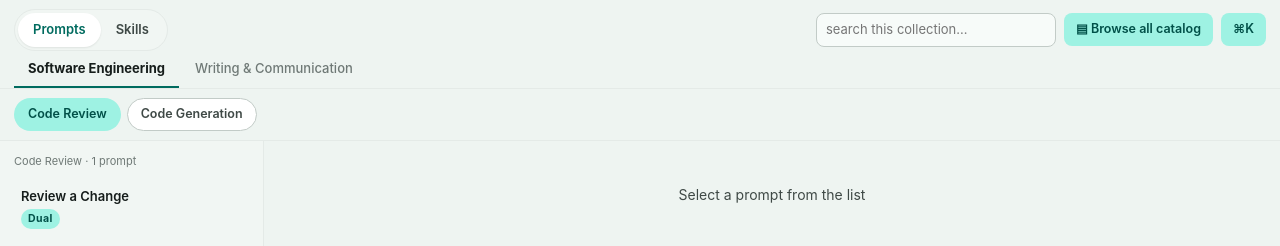
Test: PromptsCollectionView component › Prompts/Skills switch → skills list appears
The width and height of the screenshot is (1280, 246).
expect the tab "Software Engineering" is shown: met, box [14,50,179,88]
Click "Skills" in the SegmentedControl
Click the button "Skills" at [132, 30], box [101,13,164,46]
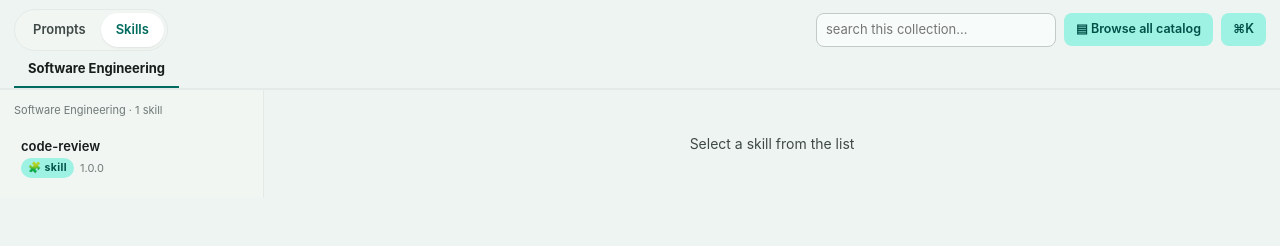
expect the button "Code Review" is gone: met
expect the option "code-review 🧩 skill 1.0.0" is shown: met, box [21,138,104,178]
